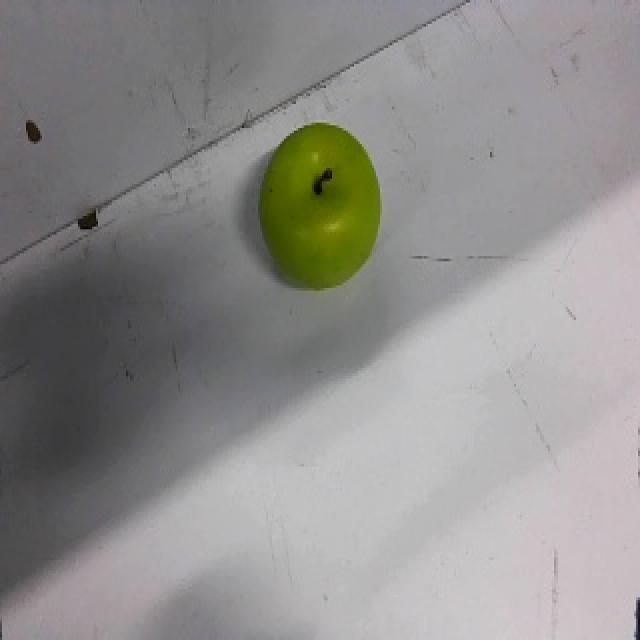apple: (258, 122, 382, 290)
